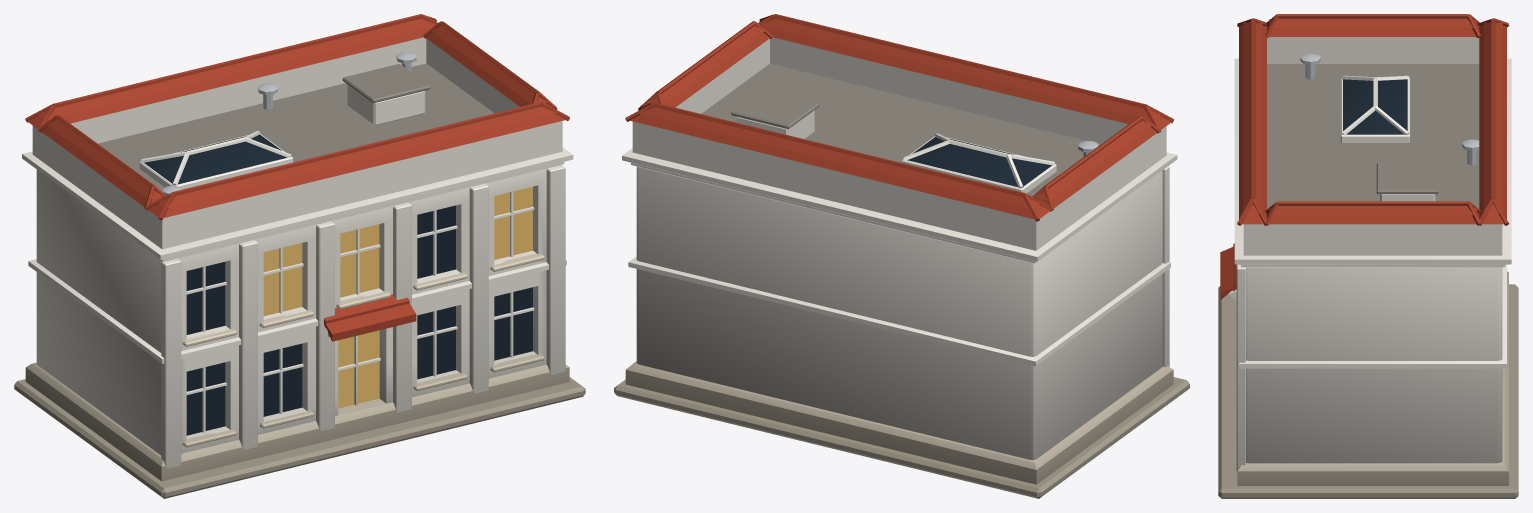
The model's file is bh_lamar.glb.
3 renders of one model, left to right at view 1: azimuth 30°, elevation 25°; view 2: azimuth 150°, elevation 25°; view 3: azimuth 270°, elevation 25°, orthographic.
Visible parts, largest first — view 1: bh_lamar; view 2: bh_lamar; view 3: bh_lamar.
Boxes of the visible parts, bbox=[...] form: bh_lamar: bbox=[14, 14, 585, 498]; bh_lamar: bbox=[614, 14, 1189, 498]; bh_lamar: bbox=[1218, 14, 1518, 498].
Bounding box in the file's own units: 0.0212 × 0.0138 × 0.013.
